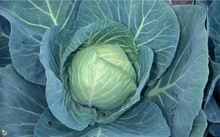cabbage: (34, 16, 168, 130)
